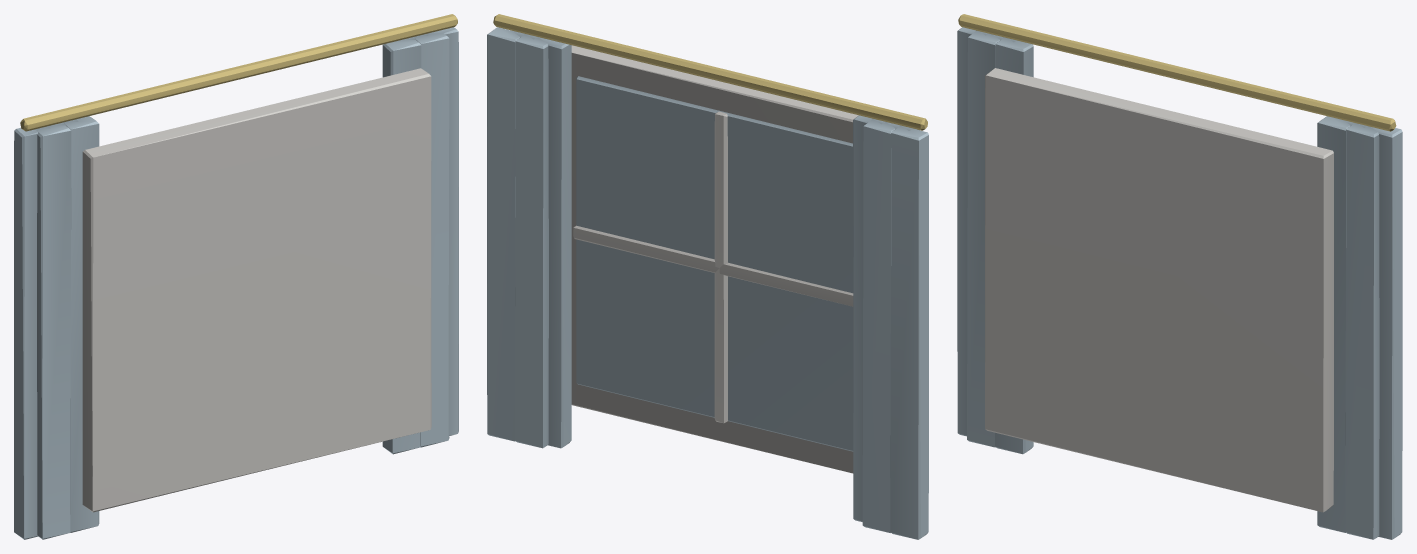
Rendered from furn_curtain_window__sky_low.glb.
3 renders of one model, left to right at view 1: azimuth 30°, elevation 25°; view 2: azimuth 150°, elevation 25°; view 3: azimuth 330°, elevation 25°, orthographic.
Size of the model in its own units: 1.41 by 1.29 by 0.1709.
